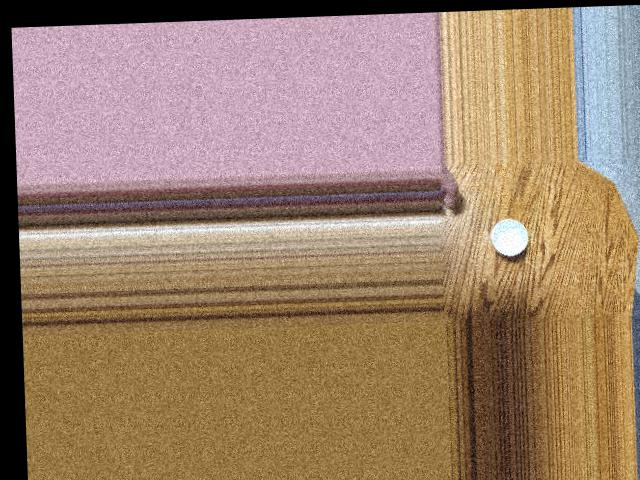cotage: (487, 214, 529, 255)
